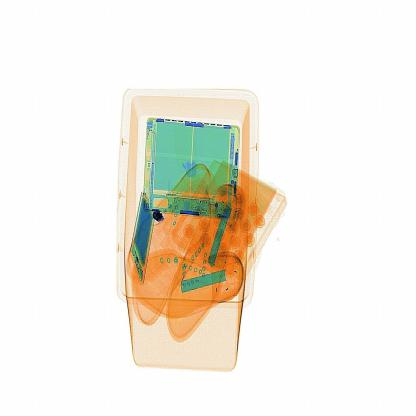knife: (146, 204, 172, 230)
